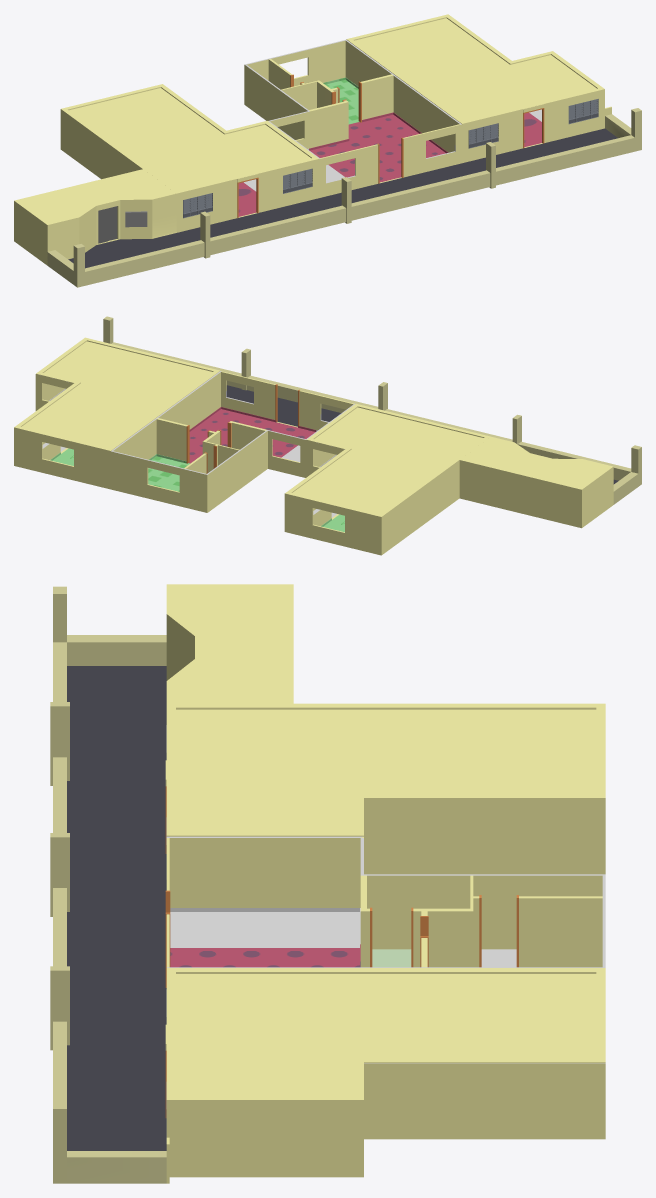
The model's file is MP_Player_Neighbour_Flats(New).fbx.
3 views of the same model, one above another, from view 1: azimuth 30°, elevation 25°; view 2: azimuth 150°, elevation 25°; view 3: azimuth 270°, elevation 25° (orthographic). The views are drawn at different scales.
Parts seen in each view (by area): view 1: Player_Neighbour_Flats, Player_Neighbour_Railing, LivingRoom_Slice, BombShelter_Slice, Bathroom_Slice, Bedroom_Slice2, Bedroom_Slice; view 2: Player_Neighbour_Flats, Player_Neighbour_Railing, LivingRoom_Slice, Bedroom_Slice2, Bathroom_Slice, BombShelter_Slice, Bedroom_Slice; view 3: Player_Neighbour_Flats, Player_Neighbour_Railing, Bathroom_Slice, Bedroom_Slice.
Boxes of the visible parts, left/top/right/bottom form: Player_Neighbour_Flats: left=14, top=14, right=631, bottom=284; Player_Neighbour_Railing: left=73, top=108, right=641, bottom=287; LivingRoom_Slice: left=320, top=124, right=460, bottom=177; BombShelter_Slice: left=309, top=99, right=348, bottom=130; Bathroom_Slice: left=268, top=59, right=305, bottom=104; Bedroom_Slice2: left=358, top=74, right=393, bottom=102; Bedroom_Slice: left=305, top=80, right=339, bottom=106; Player_Neighbour_Flats: left=14, top=337, right=638, bottom=555; Player_Neighbour_Railing: left=103, top=316, right=641, bottom=486; LivingRoom_Slice: left=221, top=371, right=353, bottom=414; Bedroom_Slice2: left=156, top=418, right=189, bottom=444; Bathroom_Slice: left=184, top=444, right=239, bottom=473; BombShelter_Slice: left=227, top=421, right=266, bottom=444; Bedroom_Slice: left=202, top=430, right=221, bottom=462; Player_Neighbour_Flats: left=67, top=584, right=605, bottom=1183; Player_Neighbour_Railing: left=50, top=586, right=69, bottom=1183; Bathroom_Slice: left=470, top=875, right=602, bottom=935; Bedroom_Slice: left=411, top=898, right=473, bottom=948.
Size of the model in its own units: 3120 by 251 by 1402.
Materials: 18 (2 with a texture image).
